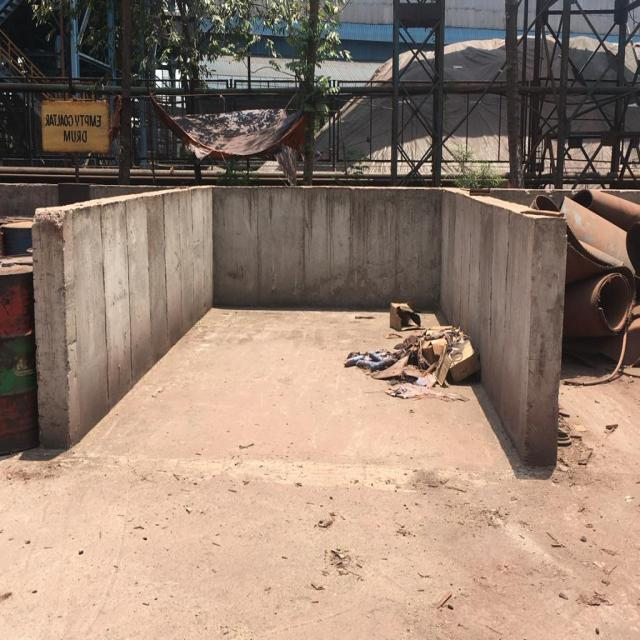dustbins: (42, 185, 551, 472)
